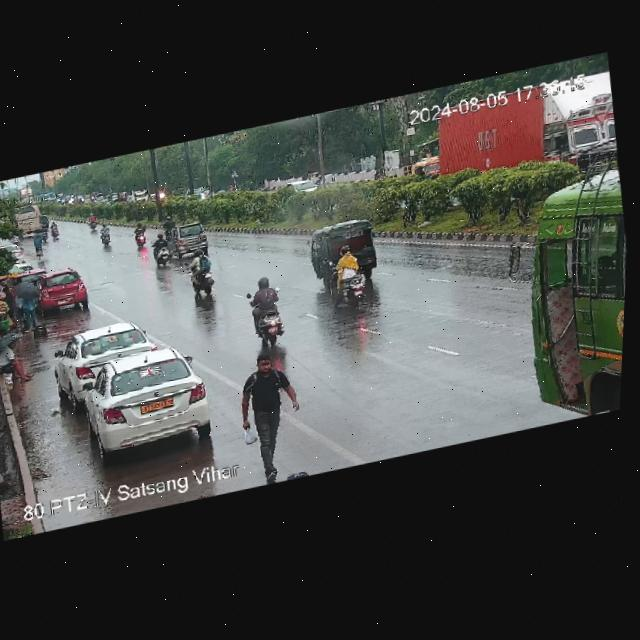bus: (510, 167, 630, 428), (7, 198, 47, 242)
car: (60, 339, 222, 464), (54, 316, 156, 394), (307, 218, 387, 301), (35, 266, 90, 312), (159, 219, 213, 260), (404, 151, 450, 190), (280, 170, 320, 205)
motorcycle: (243, 272, 294, 350), (326, 238, 379, 311), (186, 250, 219, 299), (130, 220, 160, 249), (84, 211, 105, 234), (43, 219, 62, 242)
person: (239, 349, 306, 482), (9, 280, 42, 334), (0, 335, 34, 387)
truck: (434, 73, 622, 199)
